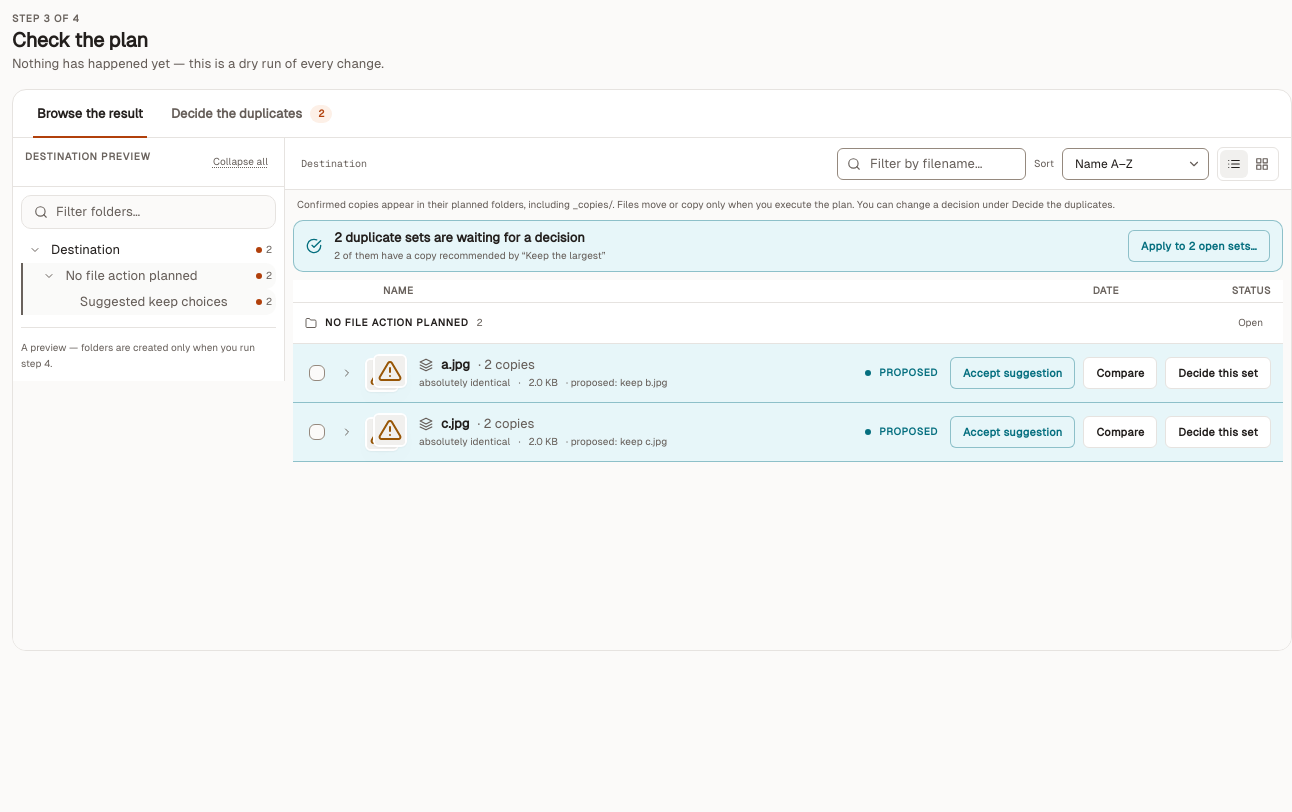
Test: resolve › draws an unaccepted proposal as a suggestion, not as a kept file
This screenshot has width=1292, height=812.
Expected: the tab "Decide the duplicates 2" is shown, [159,90,344,137]
Click the button that starts with "a.jpg".
click(382, 375)  # box [341,352,853,394]
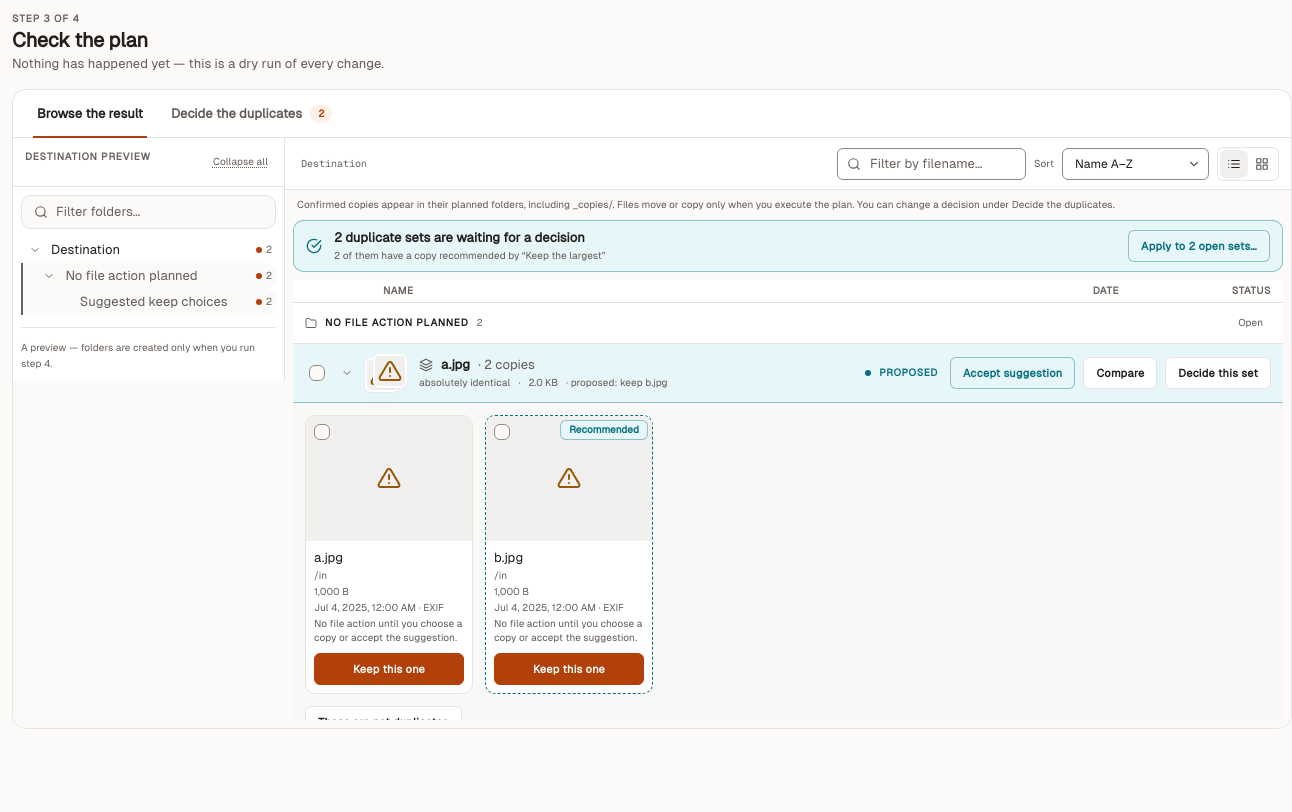
Expected: the number of buttons "Keep this one" is 2, [314,652,464,684]; [494,652,644,684]
Result: the text "Recommended" is shown at [560,420,648,440]
